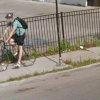bicycles: (0, 38, 37, 72)
